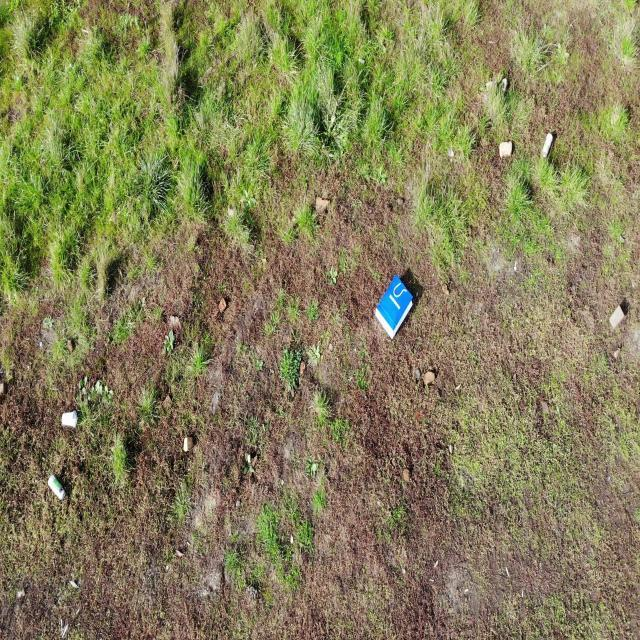rubbish: (374, 274, 413, 340), (47, 475, 67, 503), (541, 133, 554, 160), (61, 412, 79, 431)
